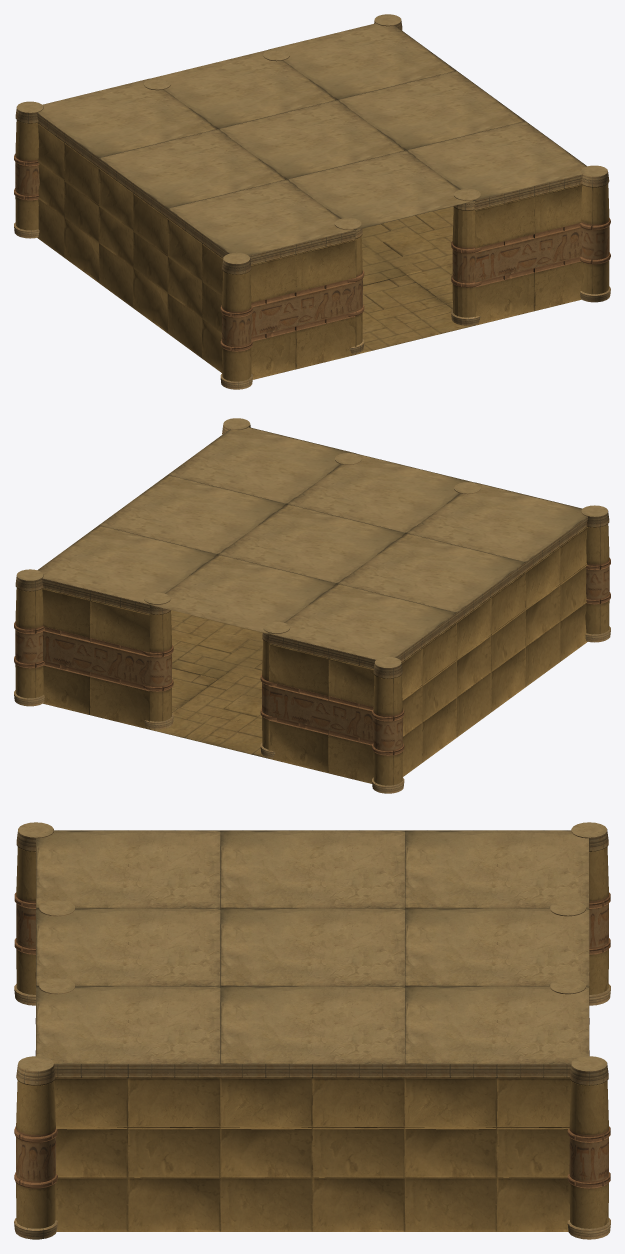
Rendered from m_Puzzle01.FBX.
3 views of the same model, one above another, from view 1: azimuth 30°, elevation 25°; view 2: azimuth 150°, elevation 25°; view 3: azimuth 270°, elevation 25° (orthographic). The views are drawn at different scales.
Visible parts, largest first — view 1: m_Puzzle01; view 2: m_Puzzle01; view 3: m_Puzzle01.
Part boxes in pixels (x1,y1,x2,y2): m_Puzzle01: (14, 14, 610, 389); m_Puzzle01: (14, 418, 610, 793); m_Puzzle01: (14, 822, 610, 1239).
Size of the model in its own units: 324 by 324 by 100.
Materials: 1 (1 with a texture image).
